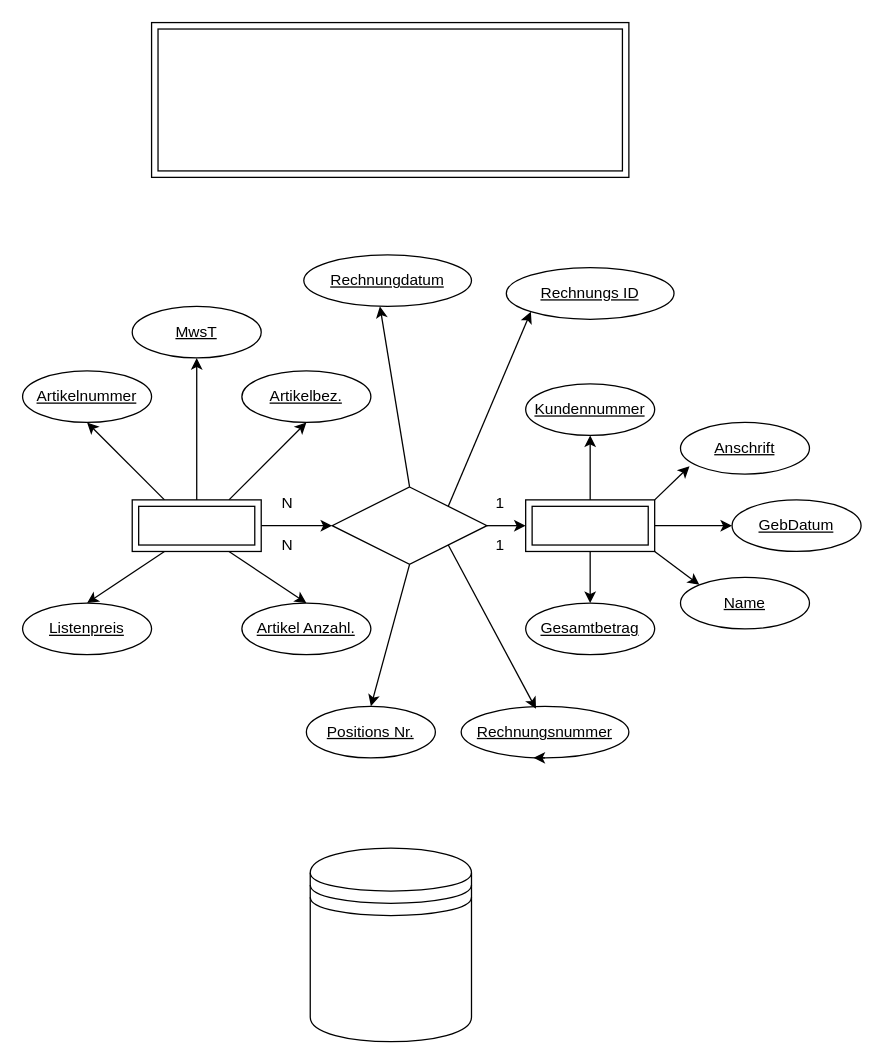
Image size: 884x1064. Some labels were removed from this diagram. The centre of each missing label's shape, as x and y in pixels:
"an" belongs at (x=409, y=525).
"Artikel" belongs at (x=196, y=525).
"DB Unternehmen" belongs at (x=390, y=944).
"ERD/ERM" belongs at (x=389, y=99).
"Kunden" belongs at (x=589, y=525).
